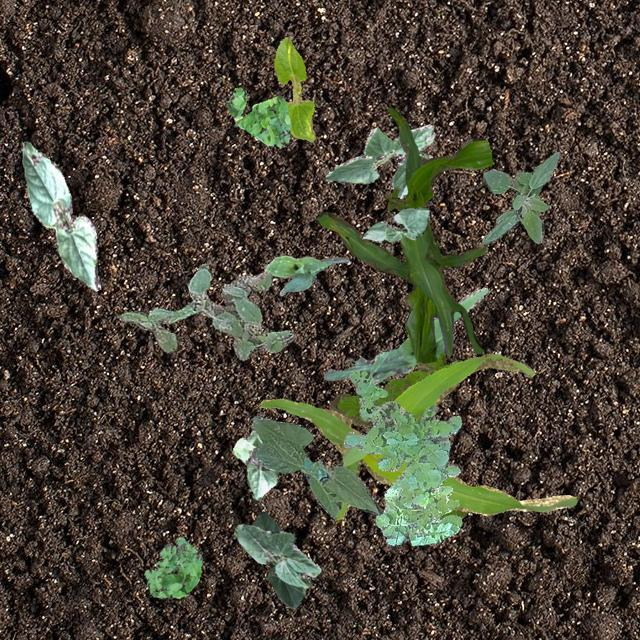crop: (260, 352, 576, 518), (314, 106, 492, 362), (322, 286, 487, 384), (250, 414, 382, 518), (20, 140, 100, 290), (324, 124, 434, 198), (233, 524, 320, 608), (272, 36, 314, 140), (264, 254, 348, 294), (232, 429, 278, 498), (362, 206, 428, 242), (250, 510, 280, 580)
weed: (329, 351, 467, 518), (342, 370, 460, 544), (115, 262, 294, 360), (482, 150, 560, 242), (222, 86, 290, 146), (142, 536, 202, 598), (384, 188, 411, 210)
